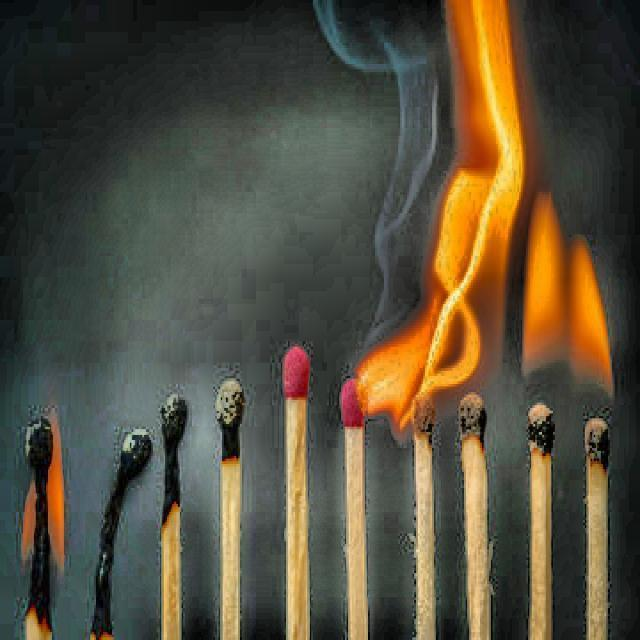fire: (359, 1, 523, 432), (525, 187, 617, 396), (20, 404, 69, 576)
